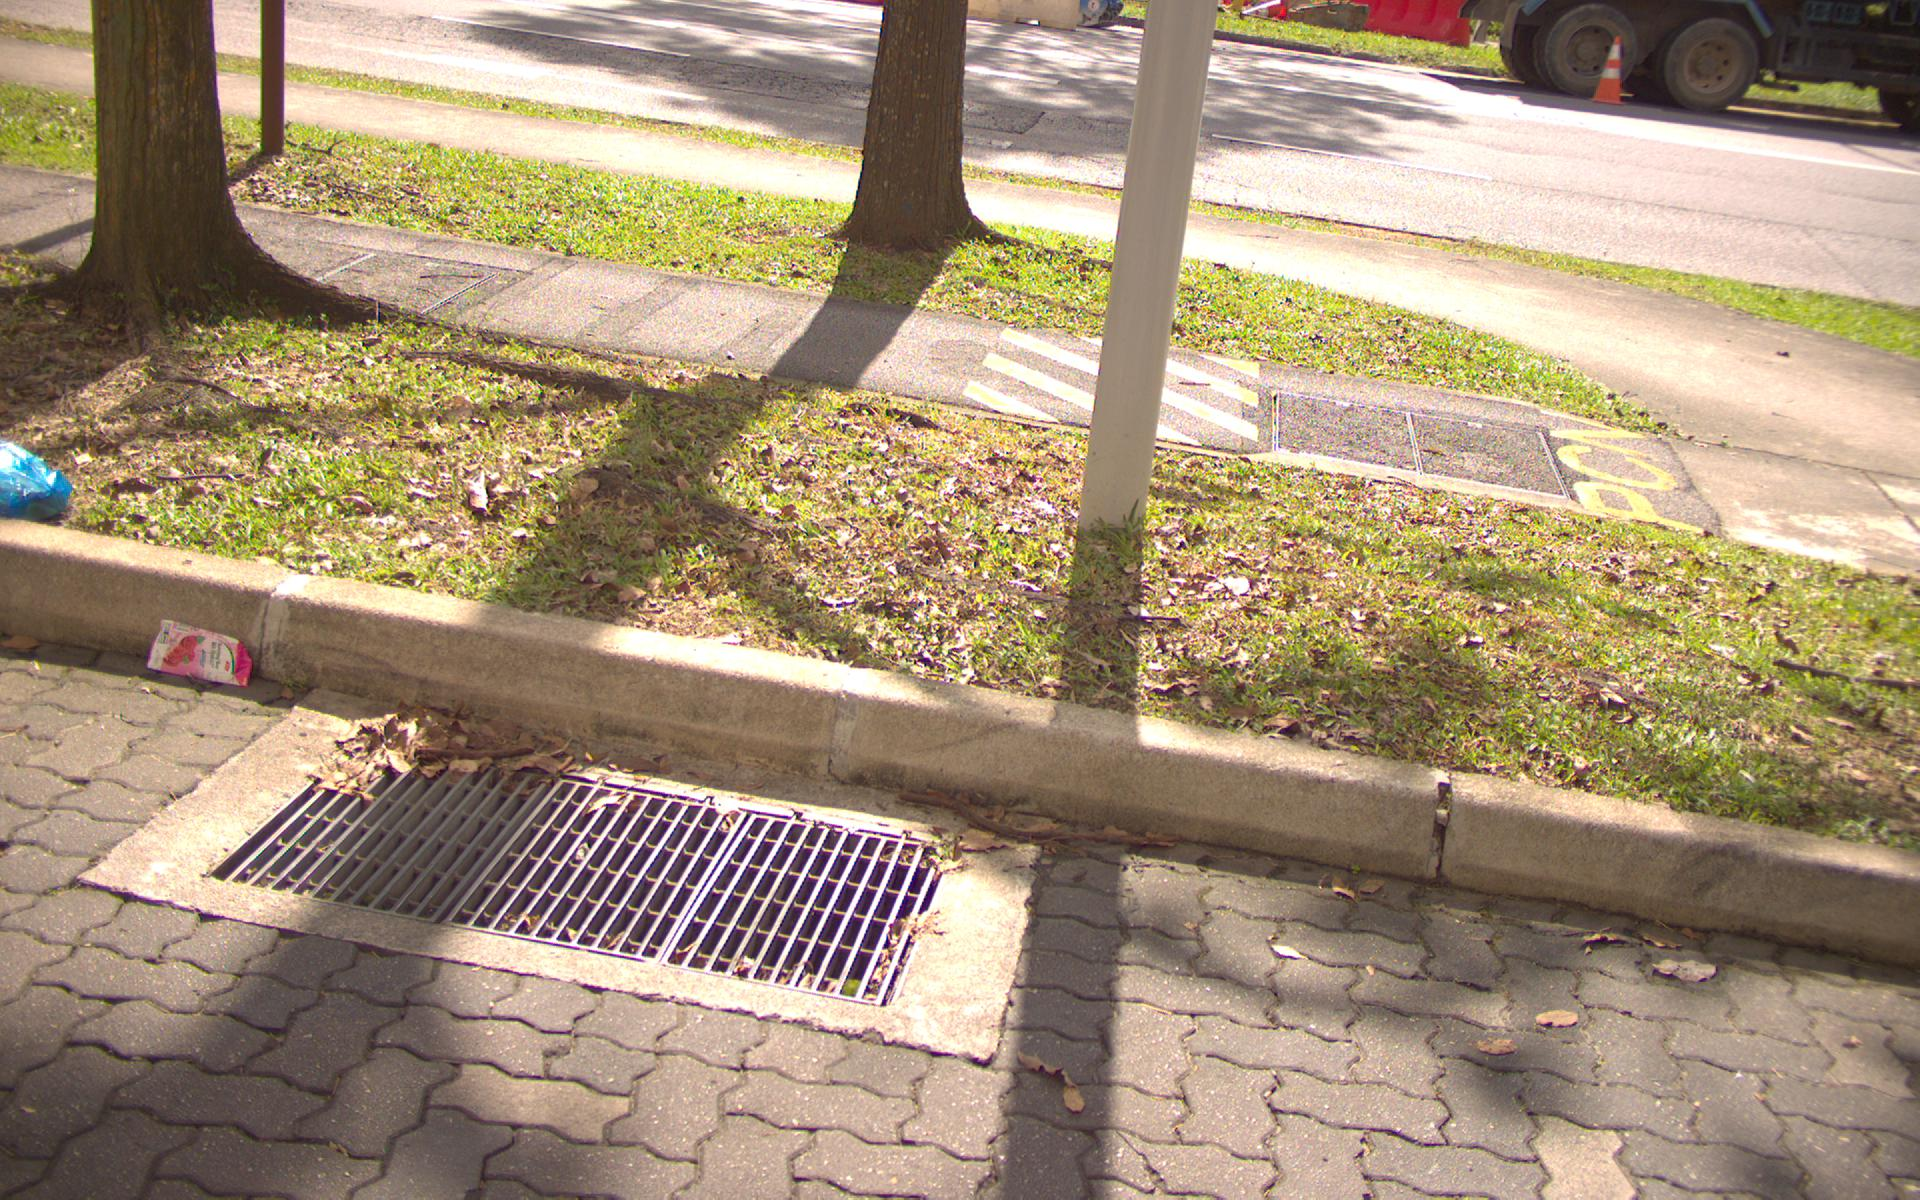curb_dic_medium: (100, 734, 1078, 1013)
road_turf_low: (358, 359, 1185, 668), (1268, 507, 1747, 740), (315, 134, 858, 288), (30, 308, 347, 512), (876, 247, 995, 288), (1815, 297, 1920, 340)
